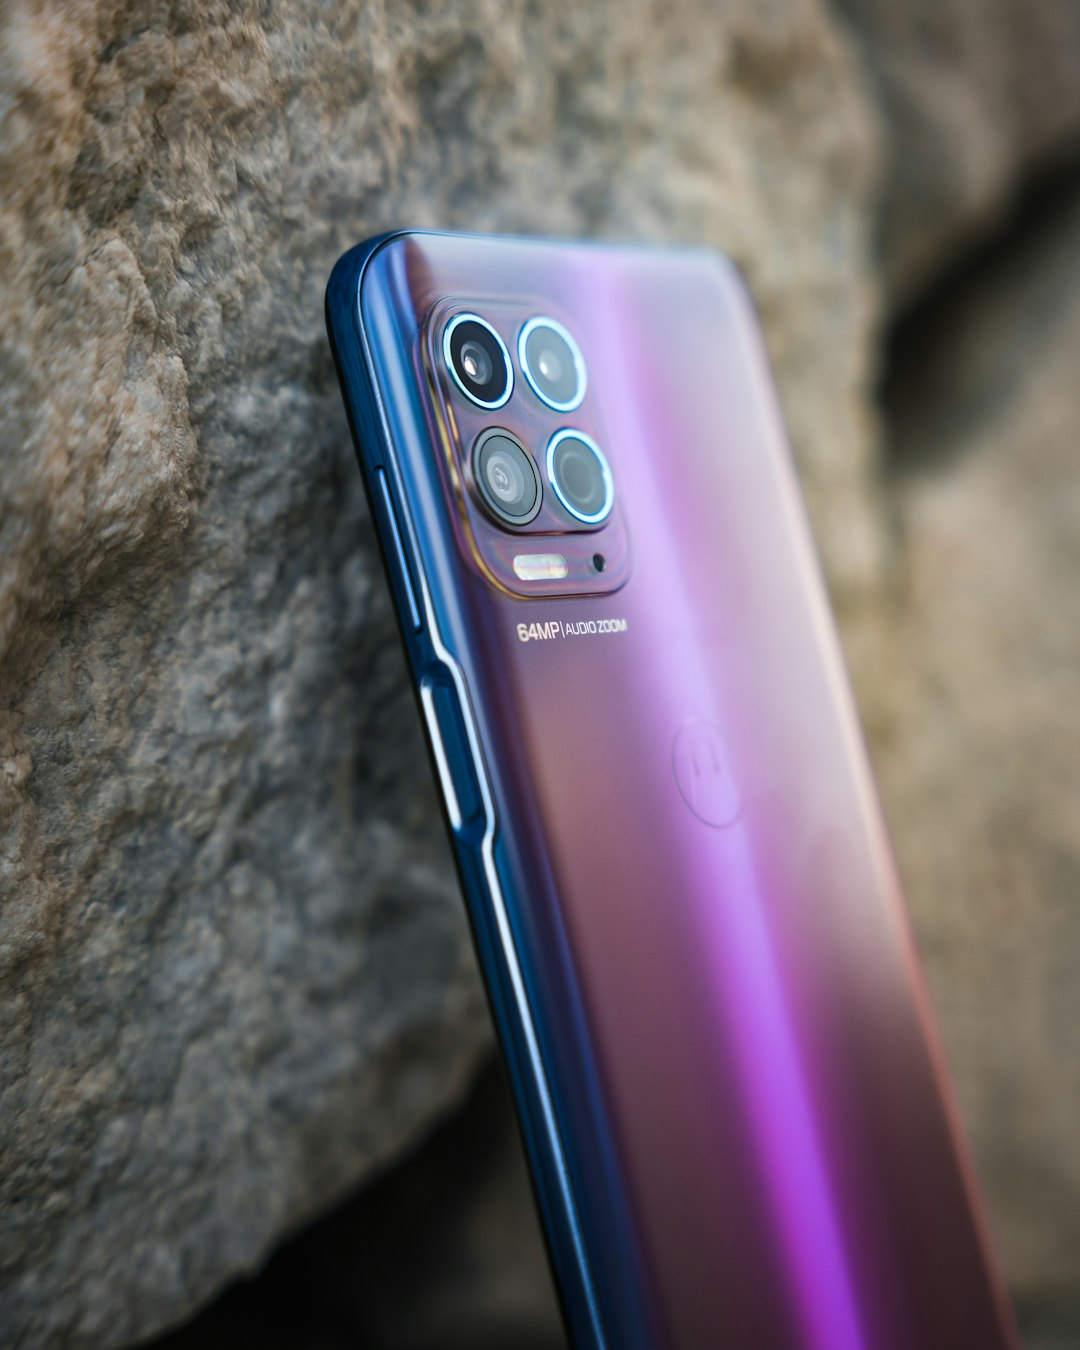phone: (328, 226, 1028, 1350)
